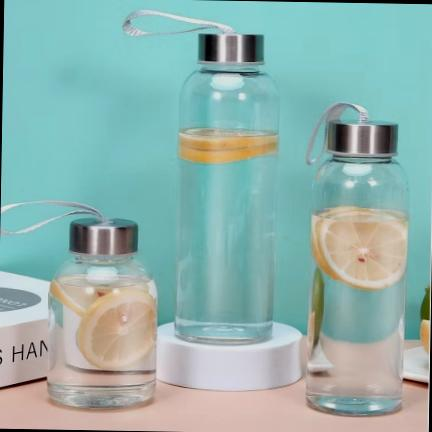container: (174, 65, 278, 344), (309, 155, 411, 416), (46, 254, 156, 408)
fluid: (173, 129, 280, 342), (309, 215, 409, 413), (48, 277, 157, 407)
fluid-surface: (314, 206, 407, 222), (56, 274, 152, 288), (180, 126, 278, 137)
